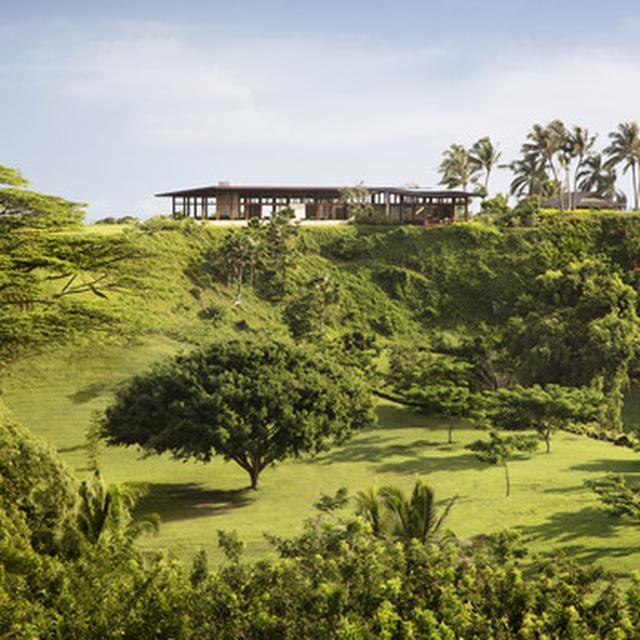building: (159, 180, 481, 228), (538, 182, 624, 216)
